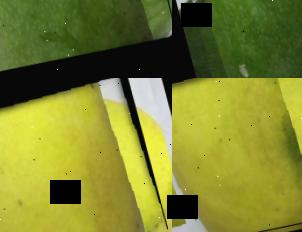Ripe: (0, 78, 172, 232), (172, 78, 302, 232)
Unripe: (0, 0, 172, 78), (187, 0, 302, 78)
